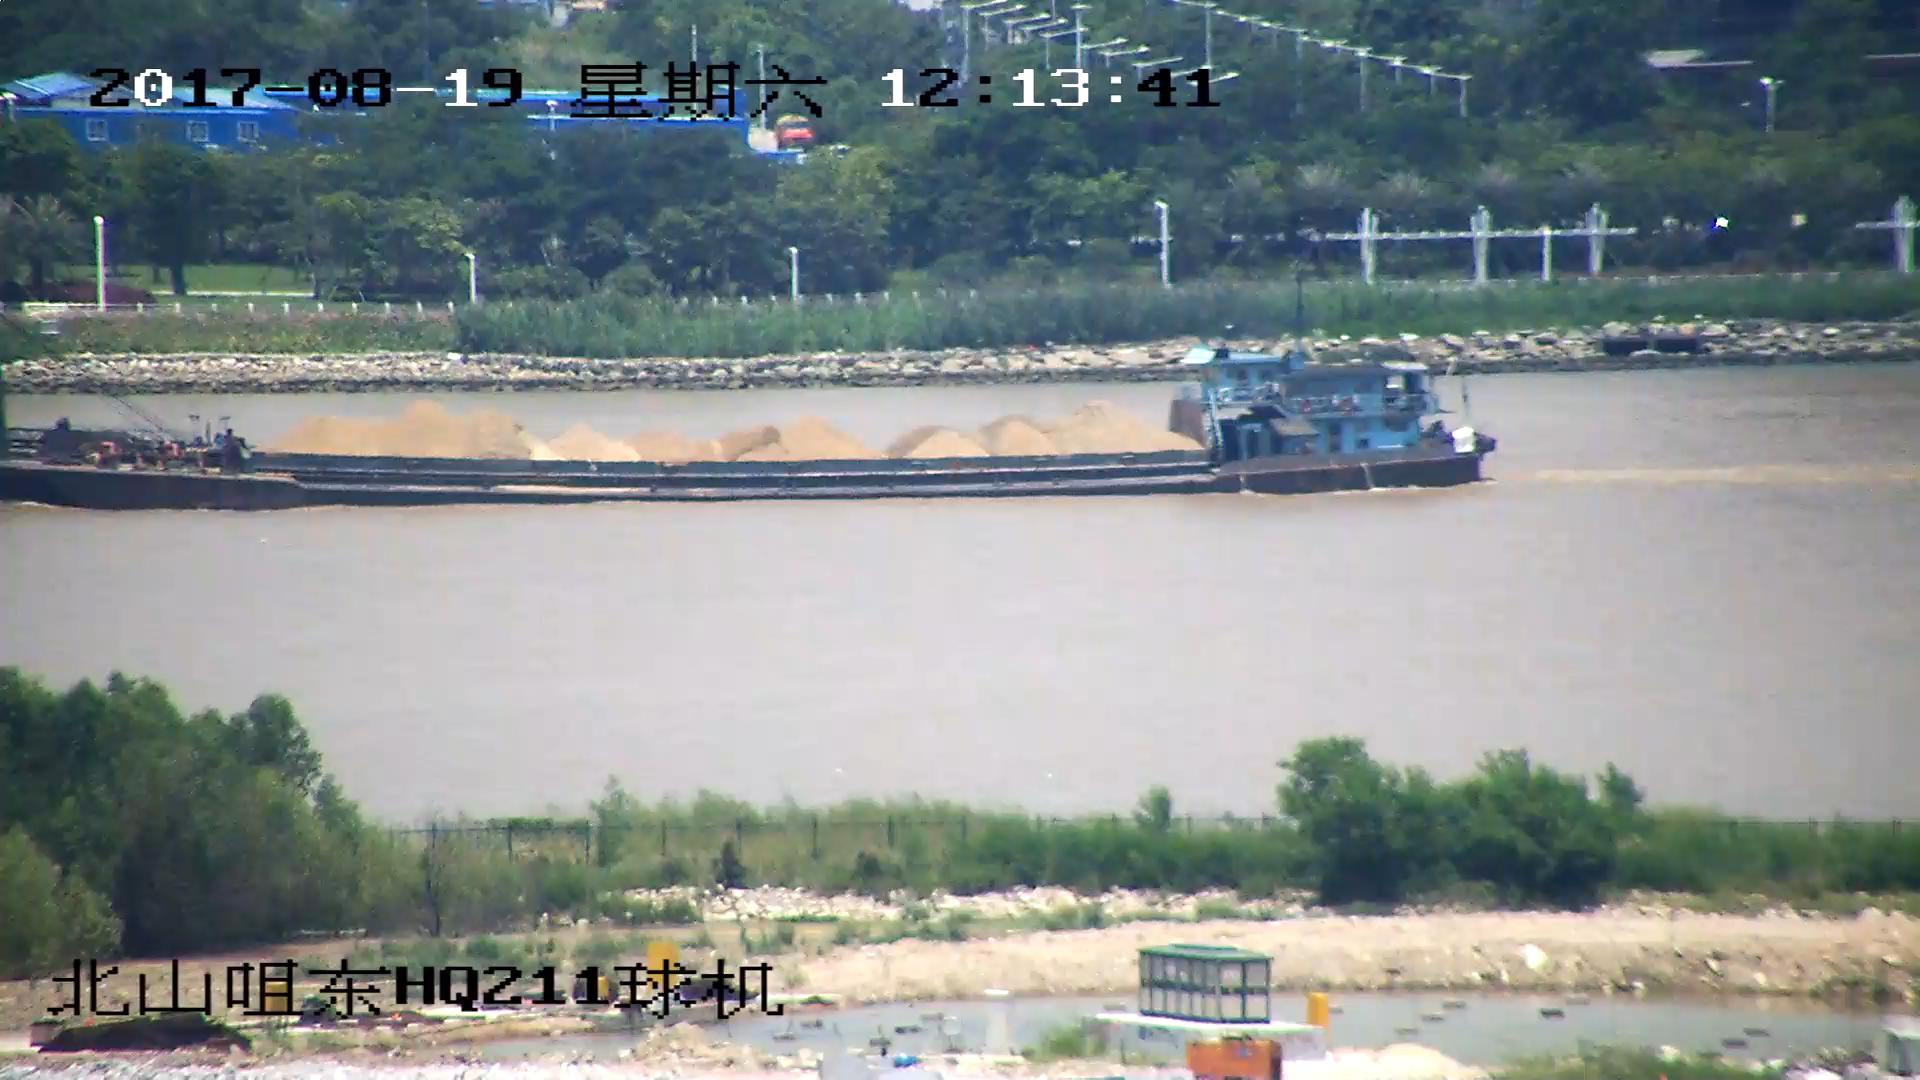ore carrier: (1, 345, 1494, 513)
